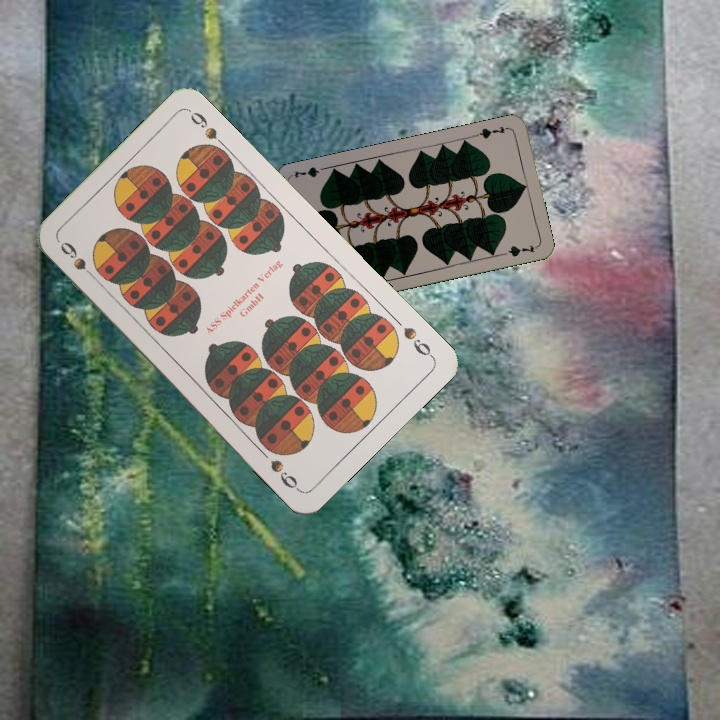G7: (472, 122, 512, 141)
S9: (56, 237, 101, 284), (399, 323, 436, 361)
